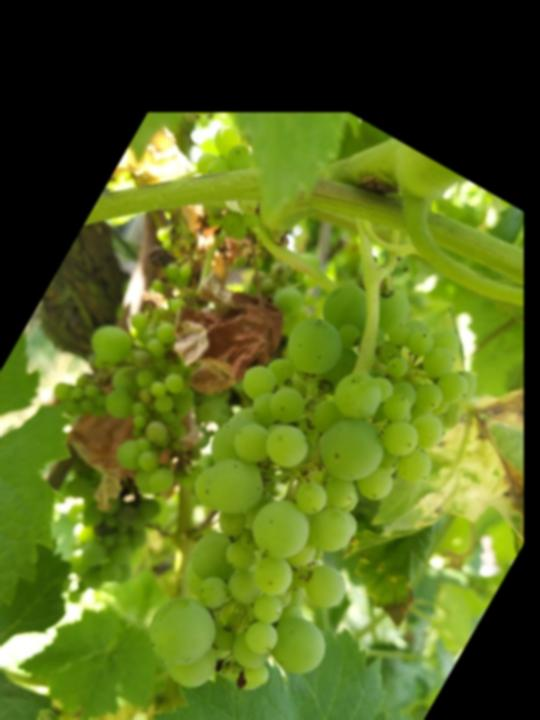grape: (96, 242, 504, 720)
